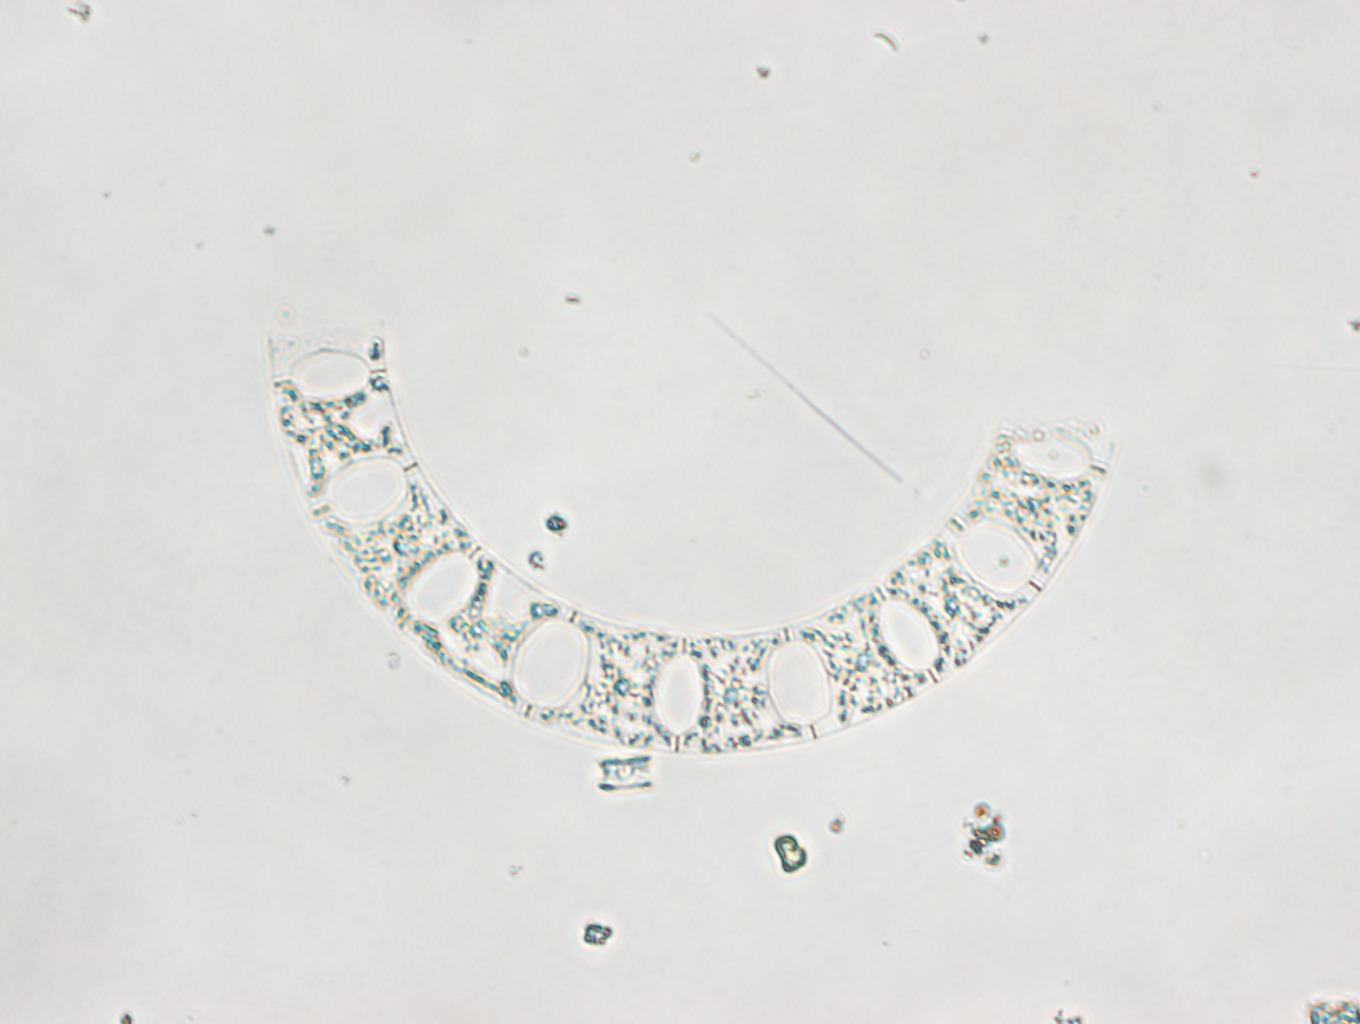eucampia: (268, 326, 1115, 756)
